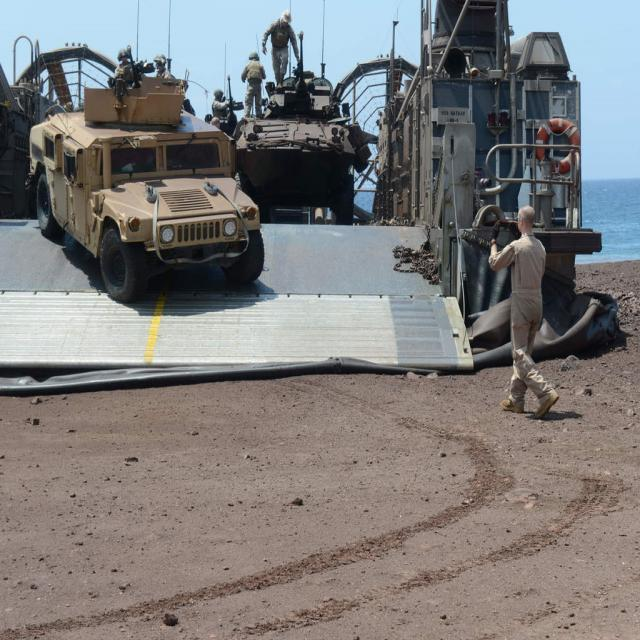tank: (225, 27, 372, 220)
